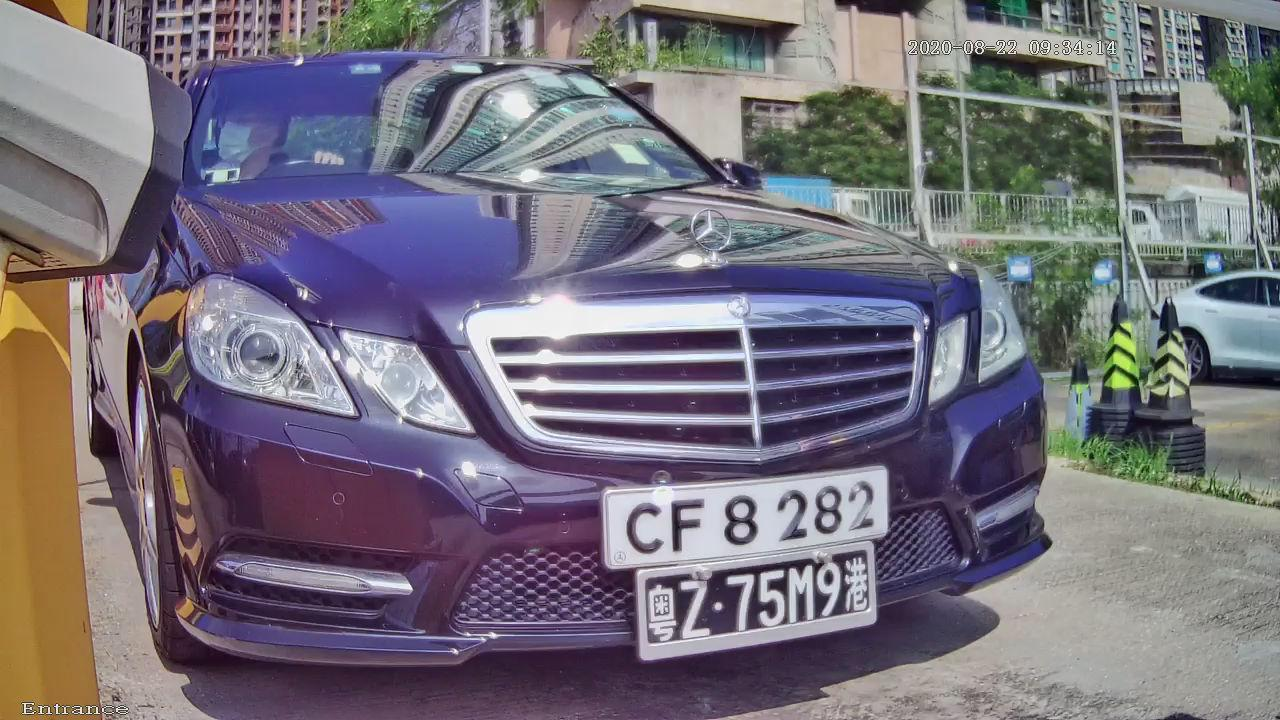Car: (46, 10, 1121, 720)
License Plate: (559, 432, 944, 606)
